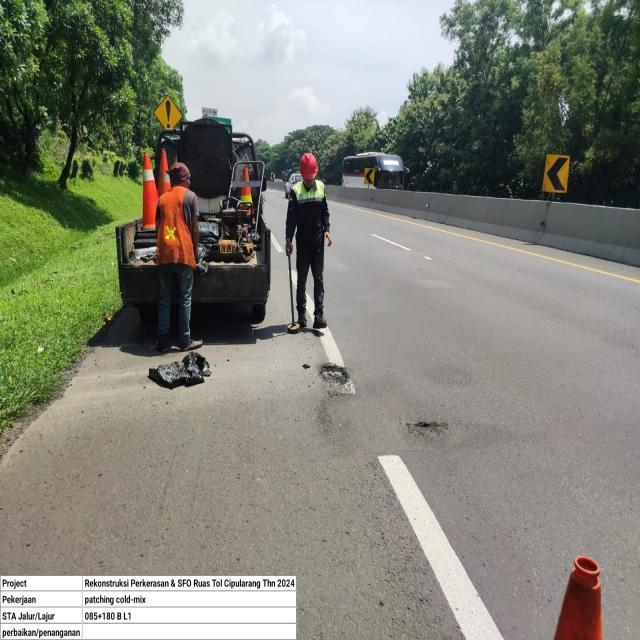Buraco: (403, 419, 452, 444), (316, 362, 353, 390)
